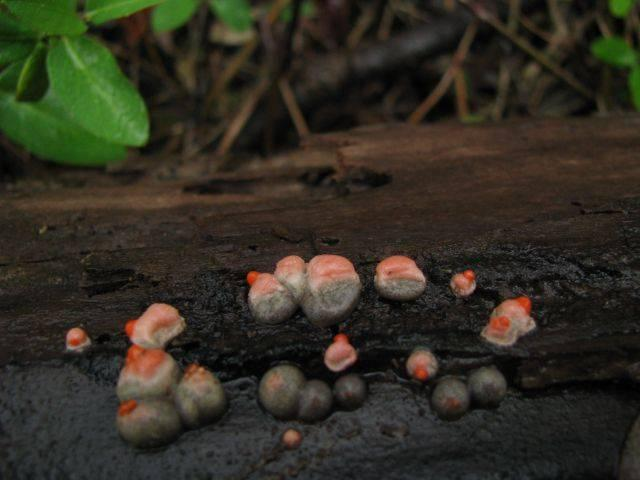poisonous_mushroom: (63, 248, 539, 448), (113, 301, 227, 447), (300, 252, 361, 326), (246, 253, 306, 324), (114, 344, 179, 400), (173, 362, 227, 427), (114, 396, 181, 447), (479, 294, 536, 347), (124, 301, 186, 349), (257, 362, 305, 417), (373, 253, 426, 301), (430, 374, 470, 418), (467, 364, 507, 406), (322, 332, 358, 372), (404, 346, 438, 381), (448, 267, 477, 298), (63, 325, 92, 354)
